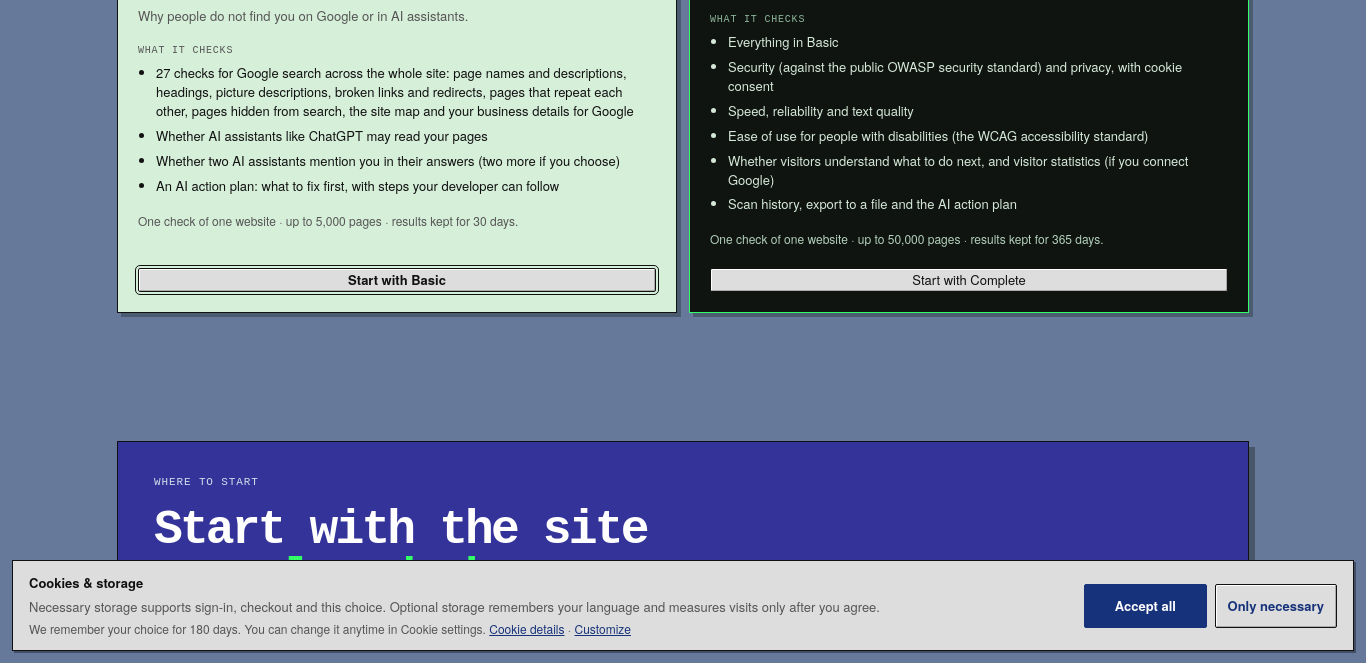
Test case: a plan the visitor chose on a pricing card › says the saved settings will change when the card names another plan
This screenshot has width=1366, height=663.
(page scrolled)
Click the button "Start with Complete" at x=969, y=280, box [710, 268, 1228, 292]
(page scrolled)
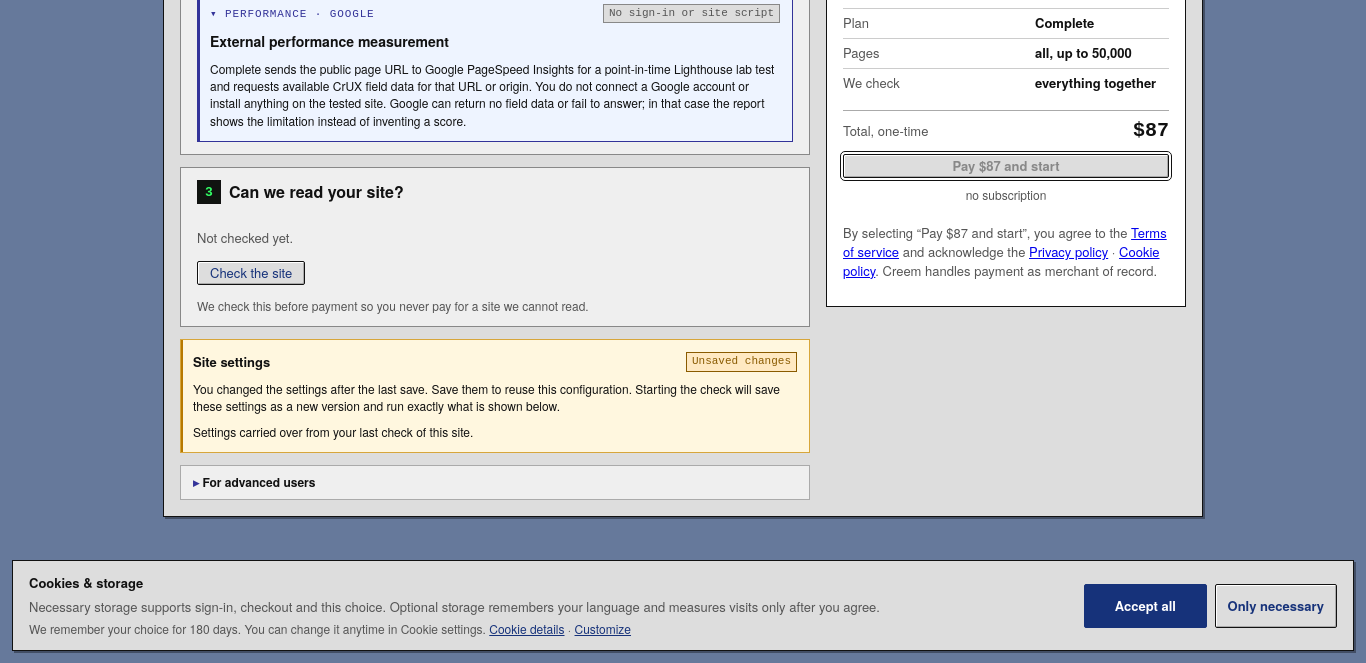
Result: the text "Unsaved changes" is shown at [686, 352, 797, 372]
Result: the text "You changed the settings after the last save. Save them to reuse this configuration. Starting the check will save these " is shown at [193, 380, 780, 414]
